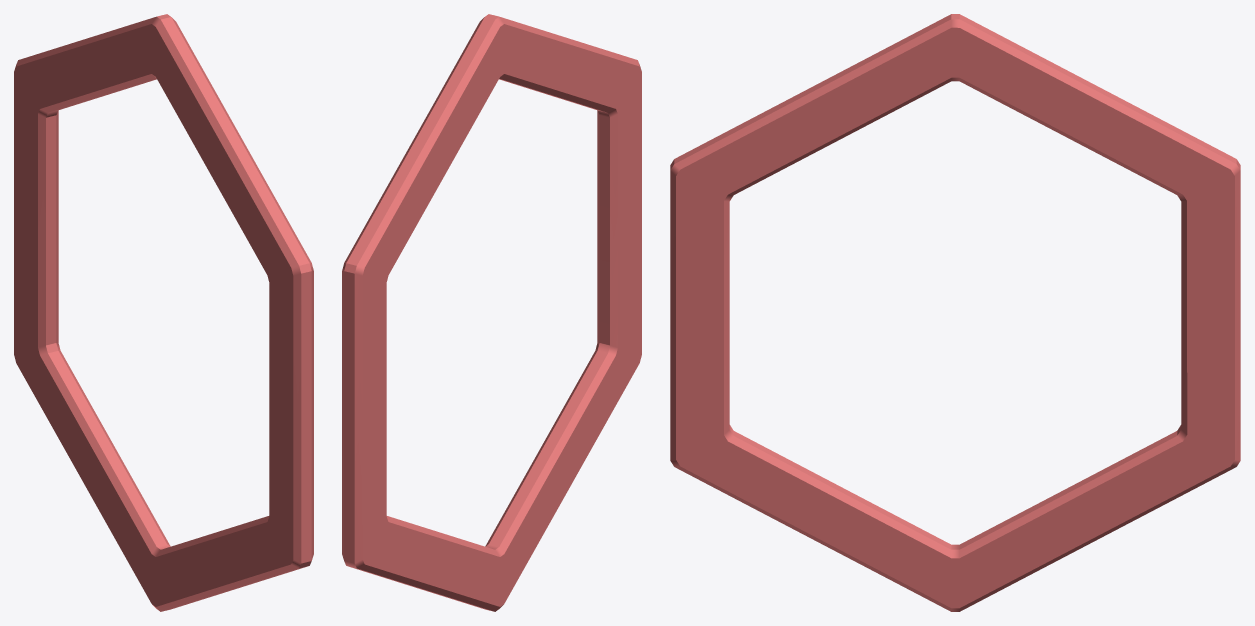
The model's file is p_HexagonRing.fbx.
The picture shows the model from 3 angles, left to right: view 1: azimuth 30°, elevation 25°; view 2: azimuth 150°, elevation 25°; view 3: azimuth 270°, elevation 25°; orthographic projection.
Visible parts, largest first — view 1: p_HexagonRing; view 2: p_HexagonRing; view 3: p_HexagonRing.
Boxes of the visible parts, x1,y1,x2,y2 form: p_HexagonRing: [14, 14, 313, 611]; p_HexagonRing: [342, 14, 641, 611]; p_HexagonRing: [670, 14, 1240, 611].
Size of the model in its own units: 0.1 by 2.76 by 2.4.
